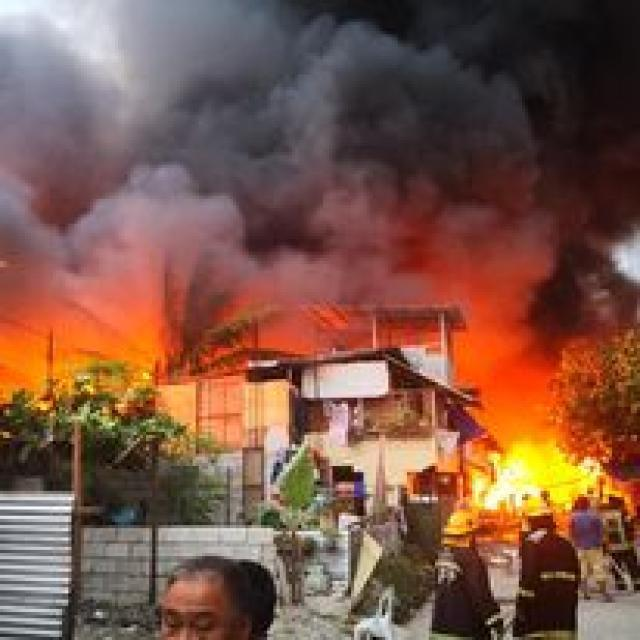Fire: (0, 253, 170, 389), (463, 359, 574, 498)
Smoke: (0, 0, 640, 323), (490, 308, 560, 408)
